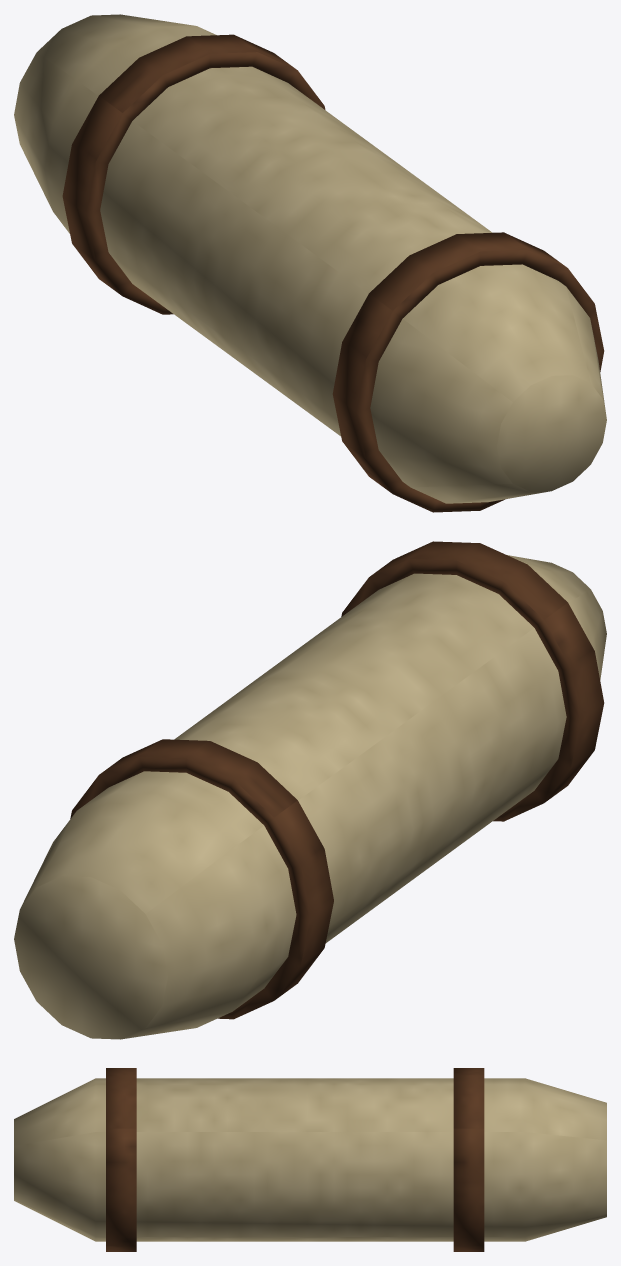
The model's file is paper_cartridge.glb.
The picture shows the model from 3 angles, top to bottom: view 1: azimuth 30°, elevation 25°; view 2: azimuth 150°, elevation 25°; view 3: azimuth 270°, elevation 25°; orthographic projection. The views are drawn at different scales.
Parts seen in each view (by area): view 1: paper_cartridge.body; view 2: paper_cartridge.body; view 3: paper_cartridge.body.
Part boxes in pixels (bbox=[...]): paper_cartridge.body: bbox=[14, 14, 606, 512]; paper_cartridge.body: bbox=[14, 541, 606, 1039]; paper_cartridge.body: bbox=[14, 1068, 606, 1251].
Size of the model in its own units: 0.018 by 0.018 by 0.058.
Materials: 2 (2 with a texture image).
